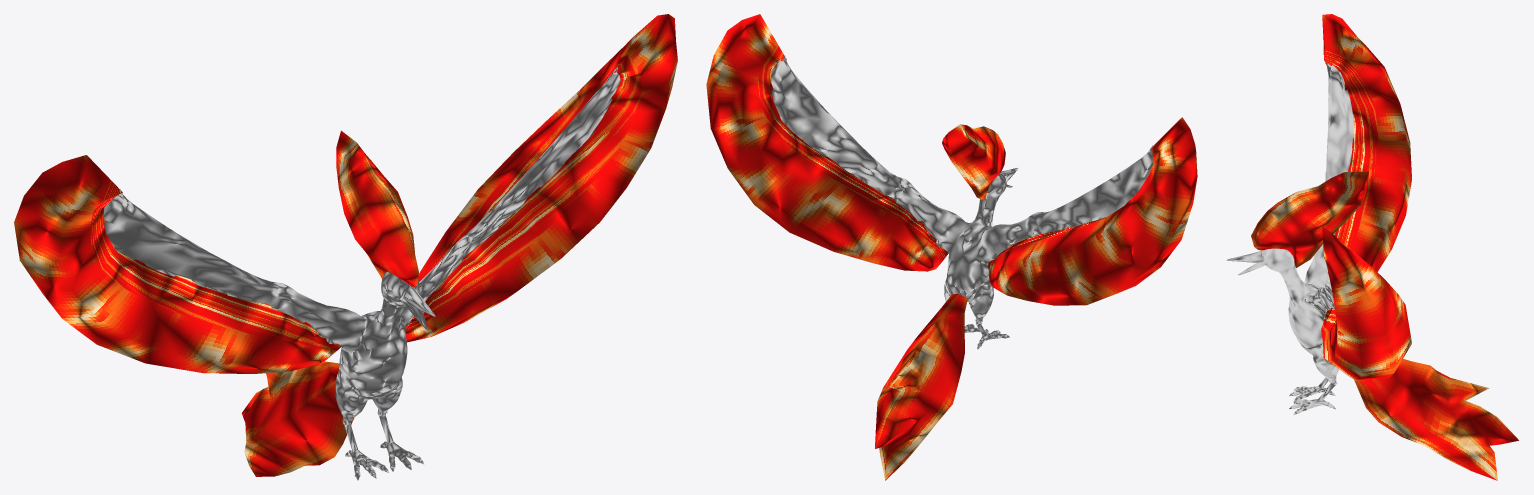
3 views of the same model, side by side, from view 1: azimuth 30°, elevation 25°; view 2: azimuth 150°, elevation 25°; view 3: azimuth 270°, elevation 25° (orthographic). The views are drawn at different scales.
Visible parts, largest first — view 1: Moltres; view 2: Moltres; view 3: Moltres.
Part boxes in pixels (x1=…): Moltres: x1=14, y1=14, x2=677, y2=480; Moltres: x1=706, y1=14, x2=1197, y2=480; Moltres: x1=1226, y1=14, x2=1518, y2=480.
Size of the model in its own units: 532 by 372 by 274.
